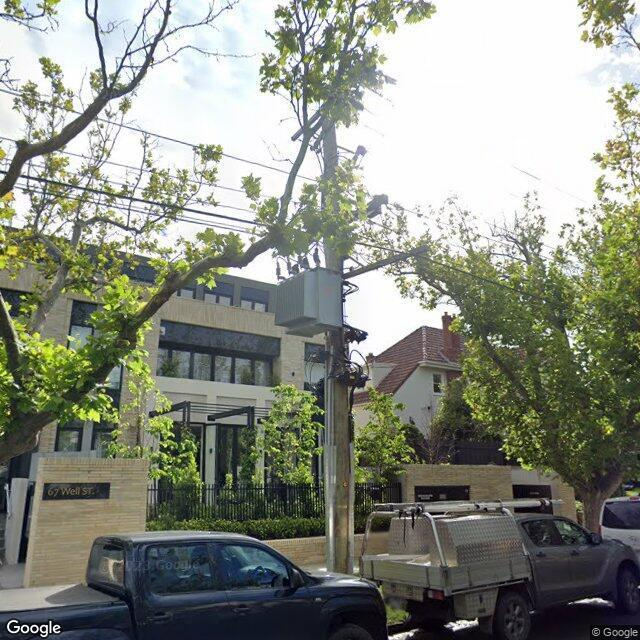crossarm: (342, 245, 431, 280), (290, 102, 326, 142), (351, 193, 388, 223)
timber-pole: (321, 101, 354, 575)
transformer: (273, 246, 369, 345)
